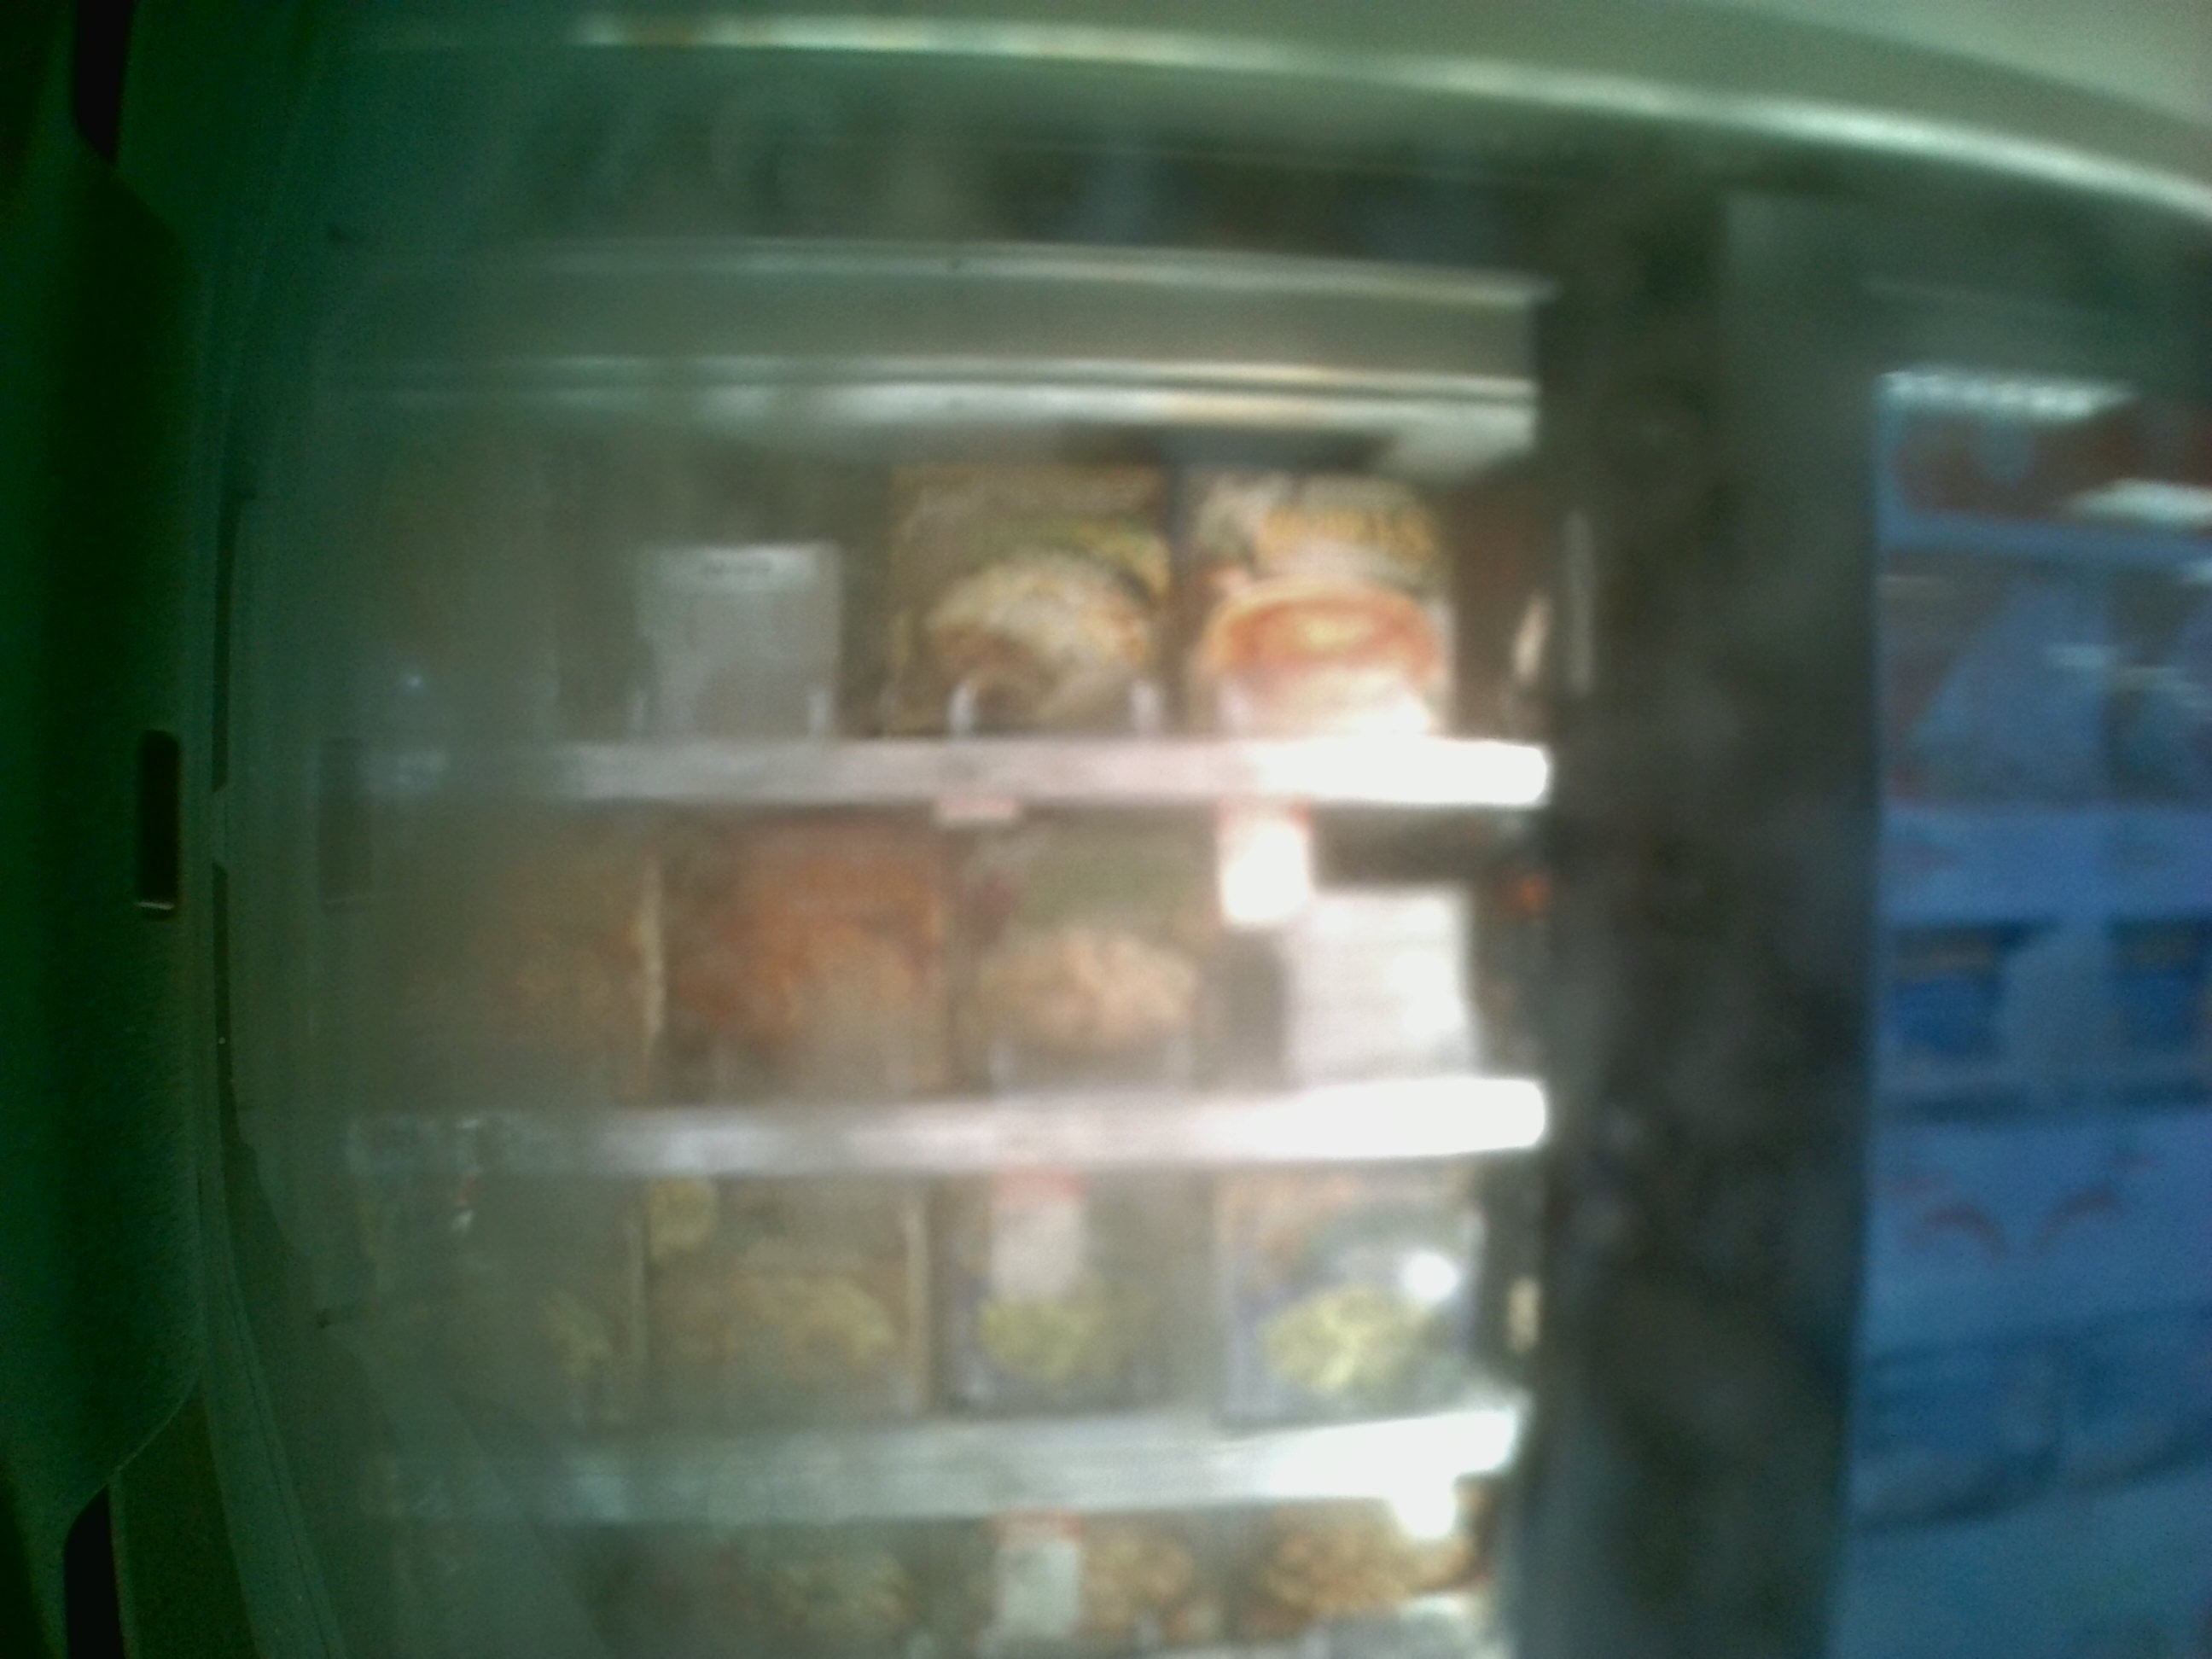frozen-food-shelf: (329, 427, 1561, 817), (324, 1173, 1581, 1530), (324, 819, 1578, 1173)
